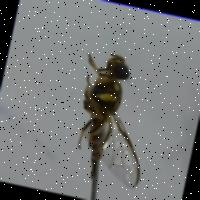Oriental-fruit-fly: (39, 18, 186, 190)
